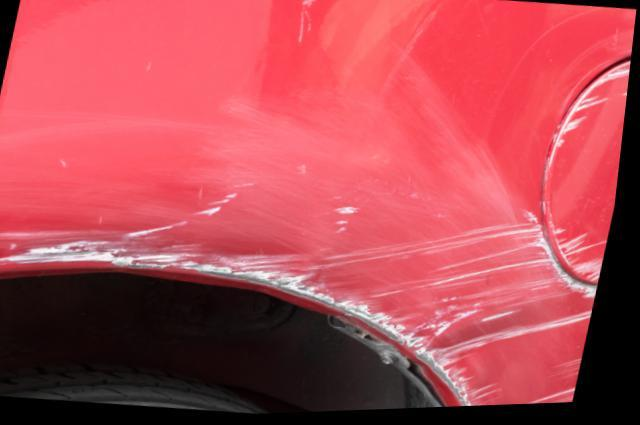scratch: (0, 44, 605, 410), (545, 65, 633, 289)
